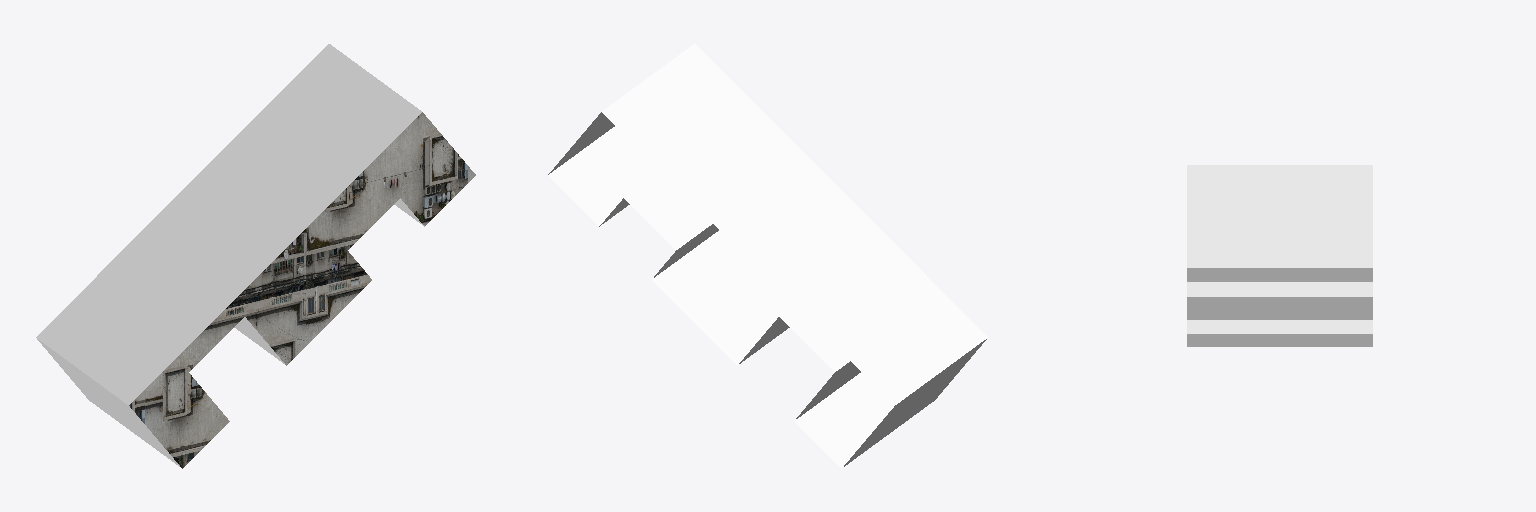
The picture shows the model from 3 angles: view 1: azimuth 30°, elevation 25°; view 2: azimuth 150°, elevation 25°; view 3: azimuth 270°, elevation 25°; orthographic projection.
Parts seen in each view (by area): view 1: Building; view 2: Building; view 3: Building.
Boxes of the visible parts, x1=… form: Building: x1=36, y1=44, x2=475, y2=468; Building: x1=548, y1=44, x2=987, y2=468; Building: x1=1187, y1=165, x2=1372, y2=346.
Bounding box in the file's own units: 19.33 × 15.88 × 9.
Materials: 2 (1 with a texture image).